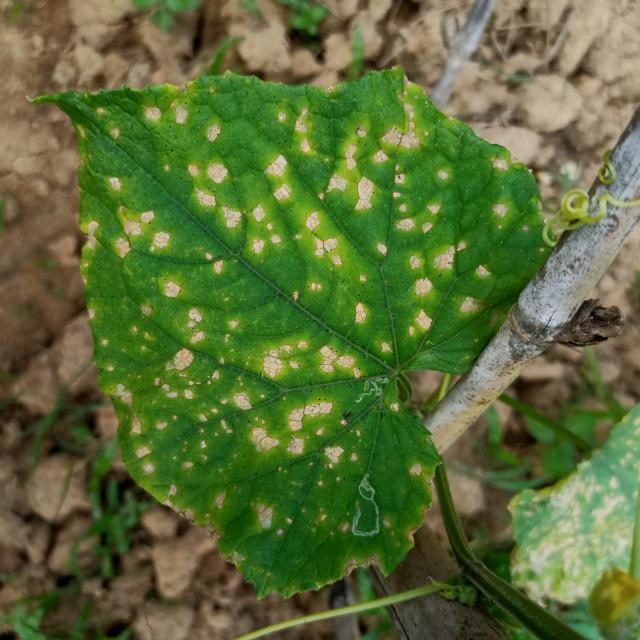disease_cucumber: (97, 81, 500, 563)
